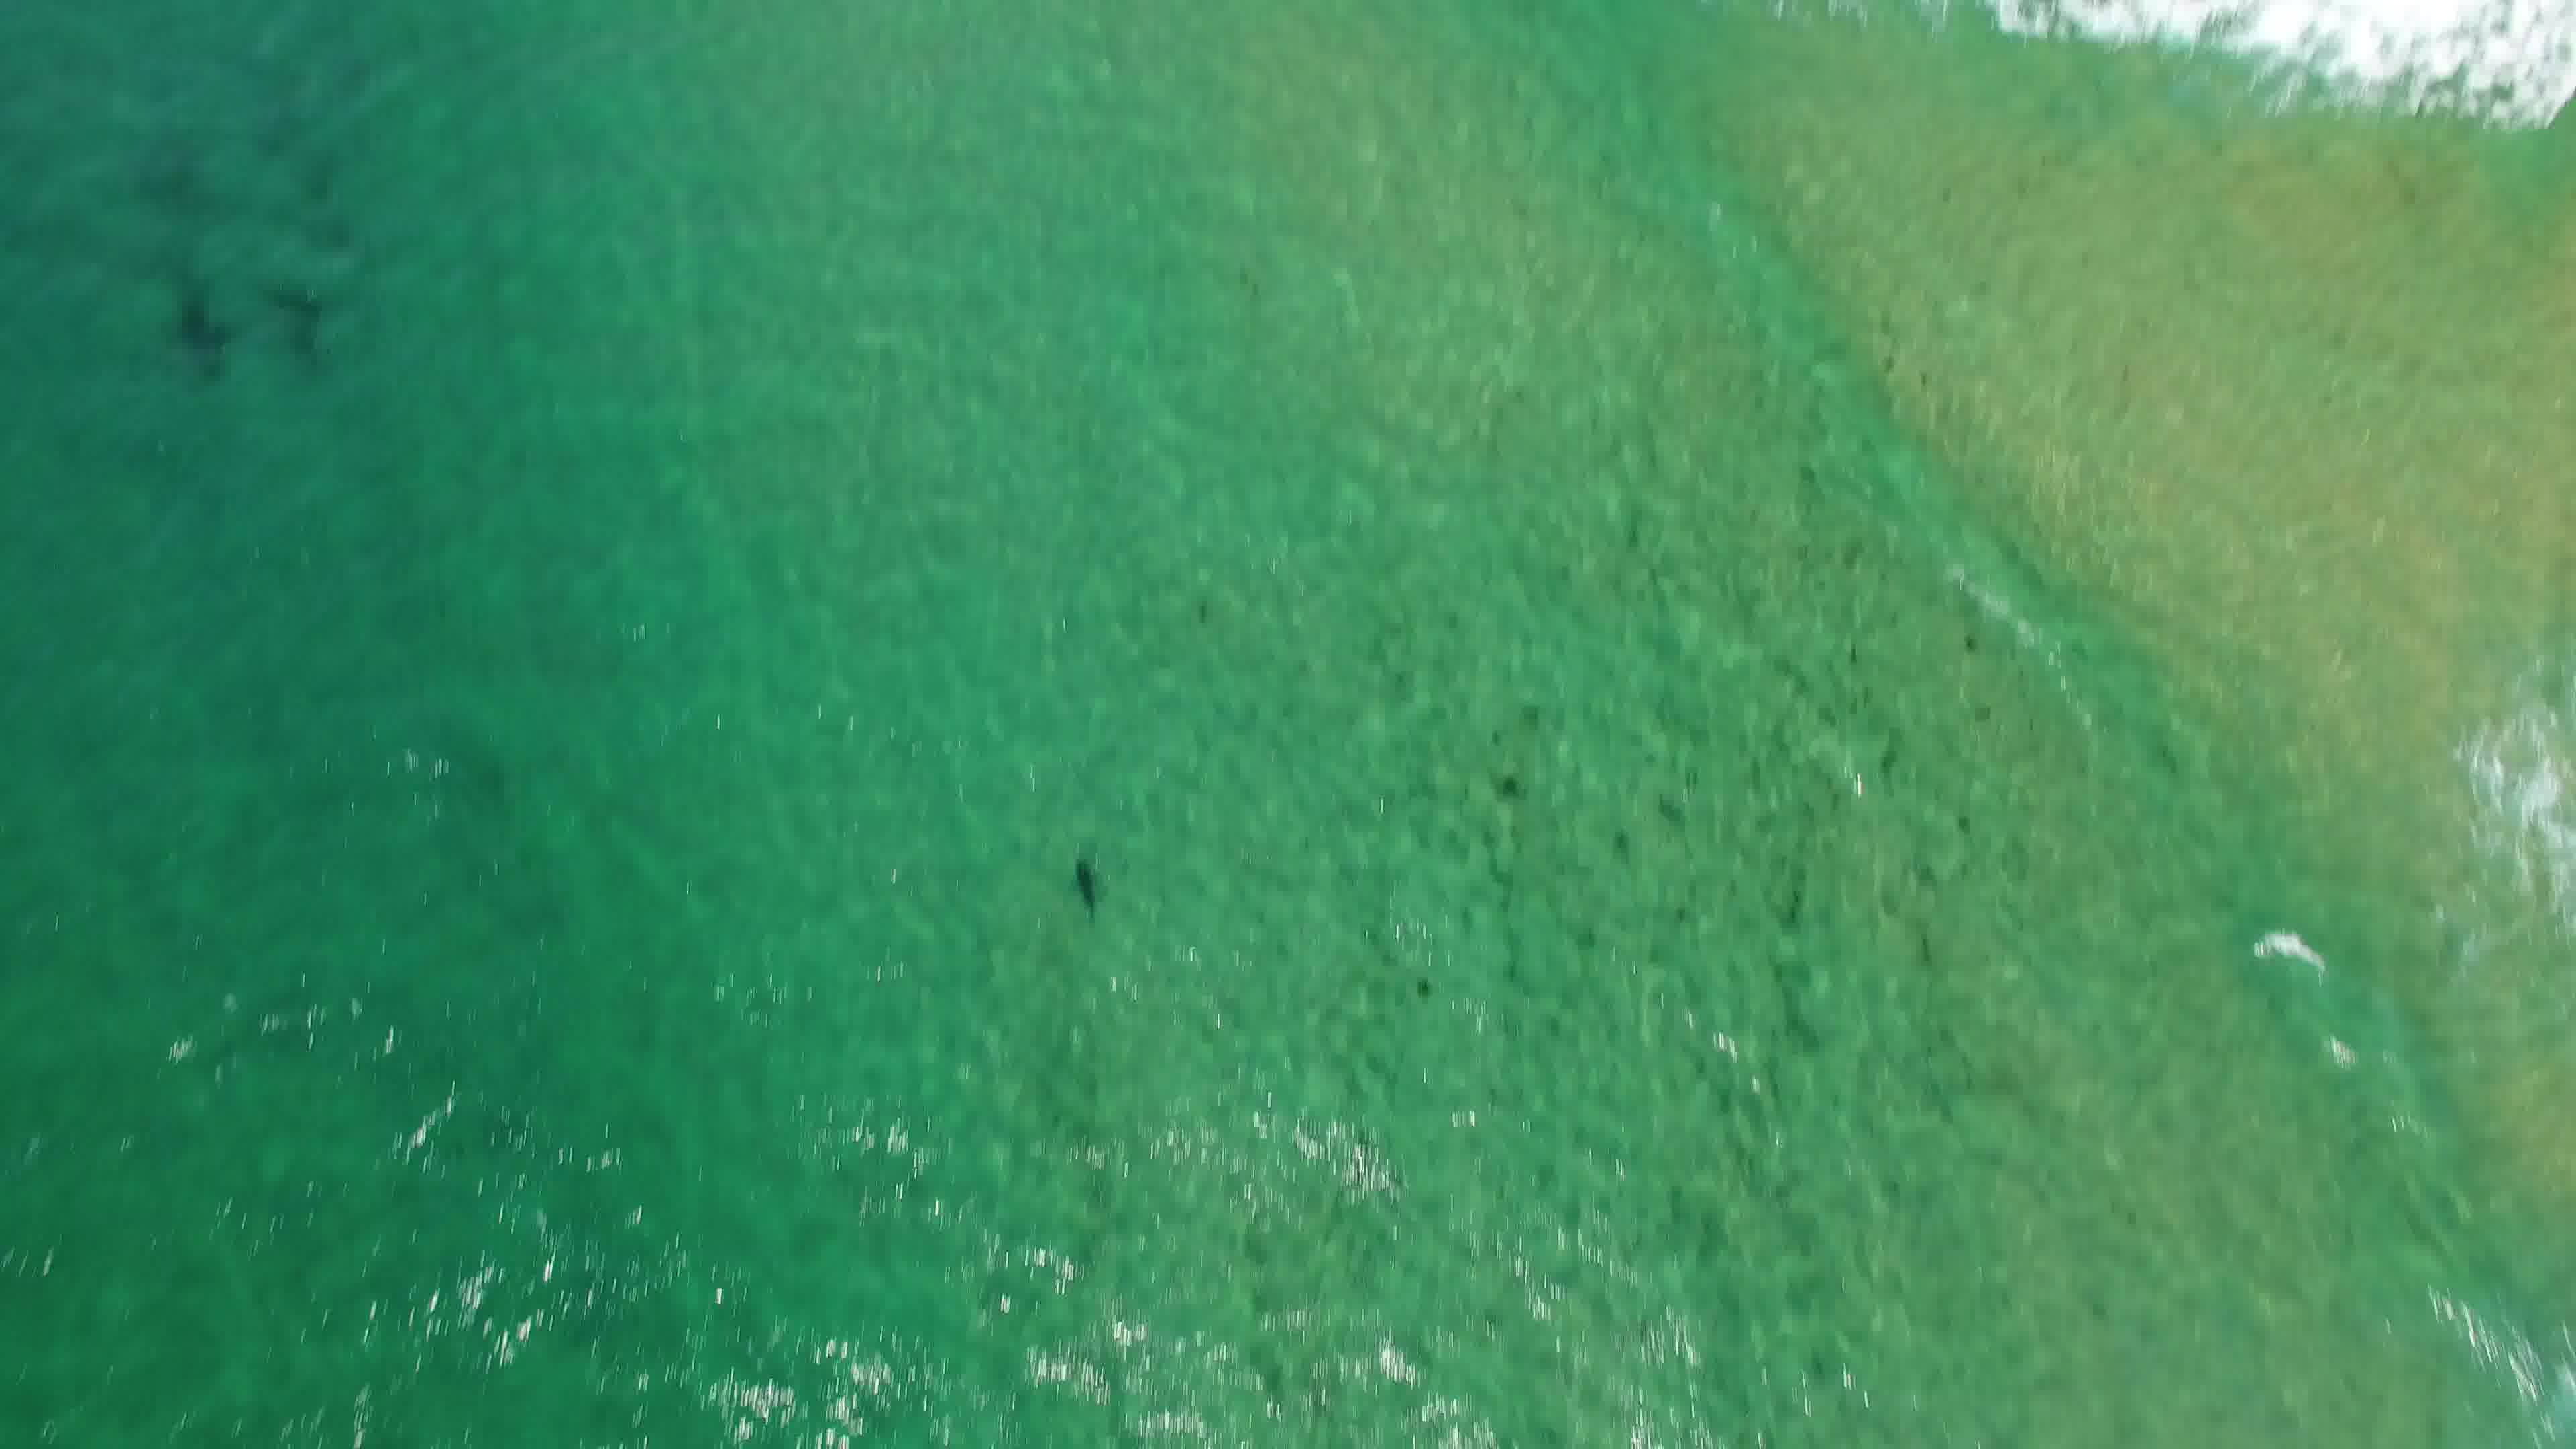shark: (1069, 844, 1108, 924)
